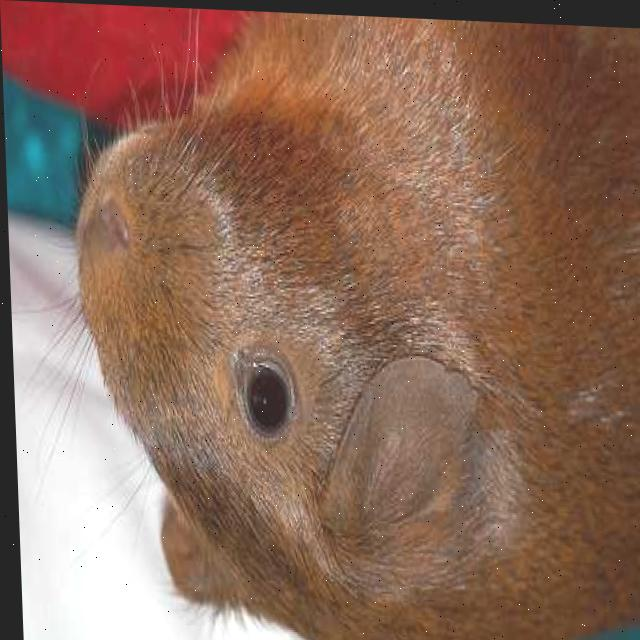guinea pig: (67, 2, 640, 640)
